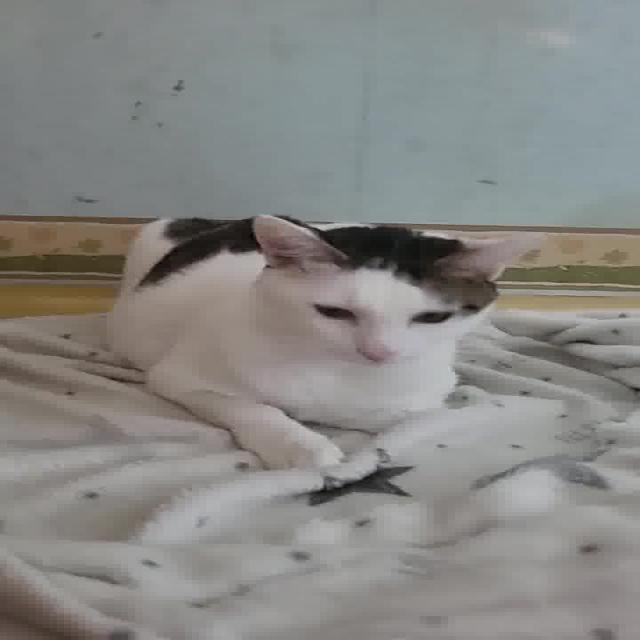cat: (50, 164, 553, 490)
